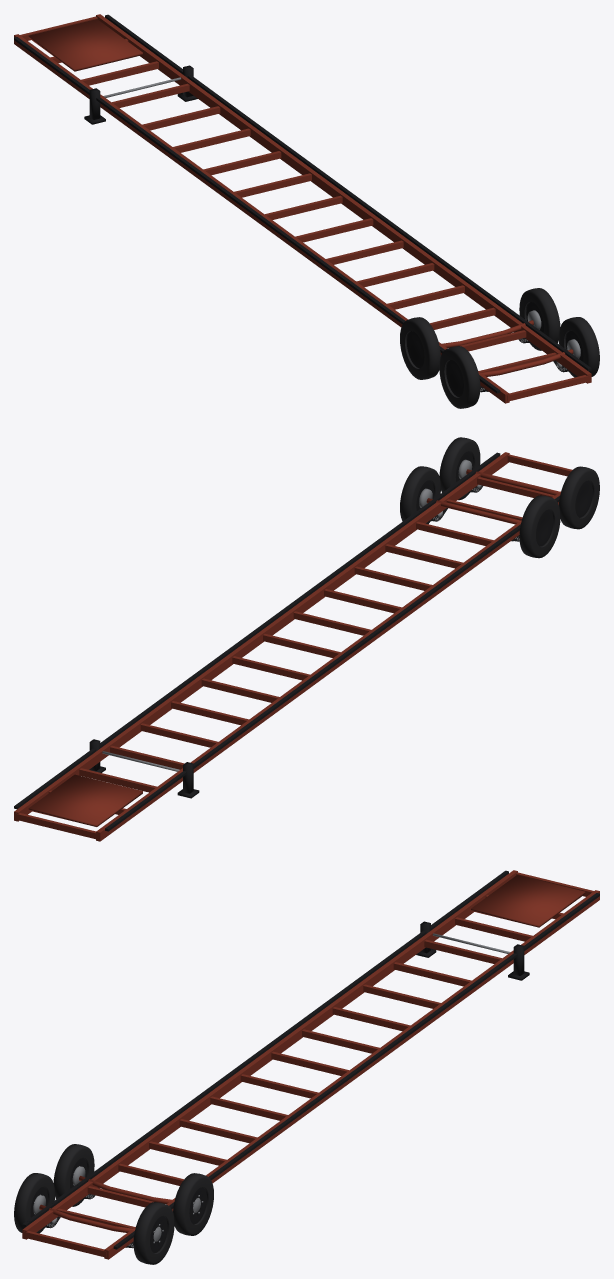
Rendered from harrow_ts150.glb.
3 views of the same model, one above another, from view 1: azimuth 30°, elevation 25°; view 2: azimuth 150°, elevation 25°; view 3: azimuth 330°, elevation 25° (orthographic).
Parts seen in each view (by area): view 1: rail_R, rail_L, kingpin, mount_rail_R, mount_rail_L, wheel_B1L, wheel_B0L, wheel_B1R, wheel_B0R, landing_legs, cross_16, cross_6 (+12 smaller); view 2: rail_R, rail_L, kingpin, mount_rail_R, mount_rail_L, wheel_B0L, wheel_B1L, wheel_B1R, wheel_B0R, landing_legs, cross_0, cross_6 (+13 smaller); view 3: rail_L, rail_R, kingpin, mount_rail_L, mount_rail_R, wheel_B1R, wheel_B0R, wheel_B1L, wheel_B0L, landing_legs, cross_16, cross_6 (+12 smaller).
Boxes of the visible parts, x1=… form: rail_R: x1=96, y1=14, x2=591, y2=383; rail_L: x1=14, y1=34, x2=509, y2=403; kingpin: x1=28, y1=19, x2=142, y2=71; mount_rail_R: x1=105, y1=14, x2=591, y2=371; mount_rail_L: x1=14, y1=37, x2=500, y2=393; wheel_B1L: x1=439, y1=346, x2=480, y2=408; wheel_B0L: x1=400, y1=317, x2=440, y2=379; wheel_B1R: x1=559, y1=317, x2=599, y2=377; wheel_B0R: x1=519, y1=288, x2=560, y2=350; landing_legs: x1=84, y1=65, x2=197, y2=124; cross_16: x1=507, y1=375, x2=589, y2=401; cross_6: x1=203, y1=151, x2=281, y2=175; rail_R: x1=14, y1=452, x2=509, y2=821; rail_L: x1=96, y1=491, x2=560, y2=841; kingpin: x1=28, y1=774, x2=142, y2=826; mount_rail_R: x1=14, y1=452, x2=500, y2=809; mount_rail_L: x1=105, y1=495, x2=559, y2=831; wheel_B0L: x1=519, y1=495, x2=560, y2=558; wheel_B1L: x1=559, y1=466, x2=599, y2=529; wheel_B1R: x1=439, y1=437, x2=480, y2=500; wheel_B0R: x1=400, y1=466, x2=440, y2=524; landing_legs: x1=89, y1=739, x2=199, y2=798; cross_0: x1=16, y1=813, x2=97, y2=839; cross_6: x1=201, y1=678, x2=279, y2=702; rail_L: x1=22, y1=870, x2=517, y2=1239; rail_R: x1=104, y1=890, x2=599, y2=1259; kingpin: x1=471, y1=875, x2=585, y2=927; mount_rail_L: x1=22, y1=870, x2=508, y2=1227; mount_rail_R: x1=113, y1=893, x2=599, y2=1249; wheel_B1R: x1=133, y1=1202, x2=174, y2=1264; wheel_B0R: x1=173, y1=1173, x2=213, y2=1235; wheel_B1L: x1=14, y1=1173, x2=54, y2=1233; wheel_B0L: x1=53, y1=1144, x2=94, y2=1206; landing_legs: x1=416, y1=921, x2=529, y2=980; cross_16: x1=24, y1=1231, x2=106, y2=1257; cross_6: x1=332, y1=1007, x2=410, y2=1031.
Bounding box in the file's own units: 2.3 × 0.96 × 14.96.
